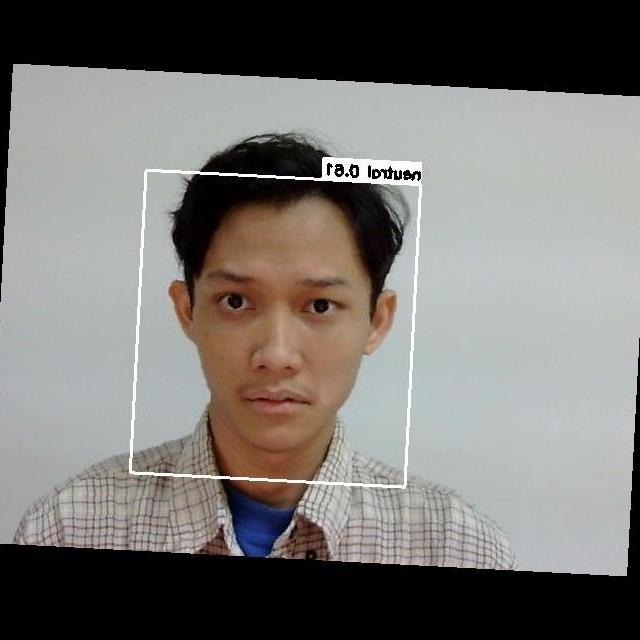Fear: (190, 246, 373, 438)
